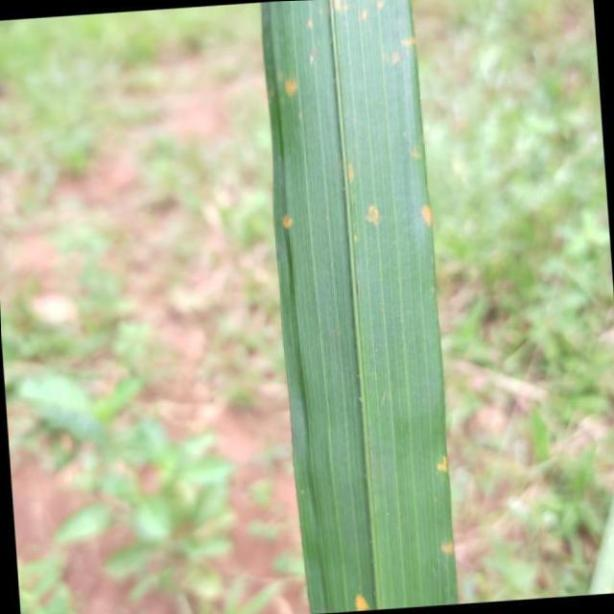Kalium: (264, 0, 460, 614)
